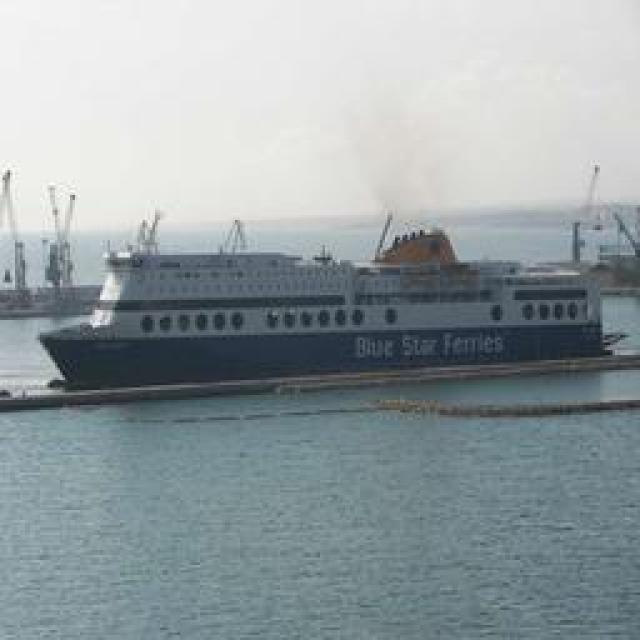CIV_Ship: (26, 215, 624, 388)
